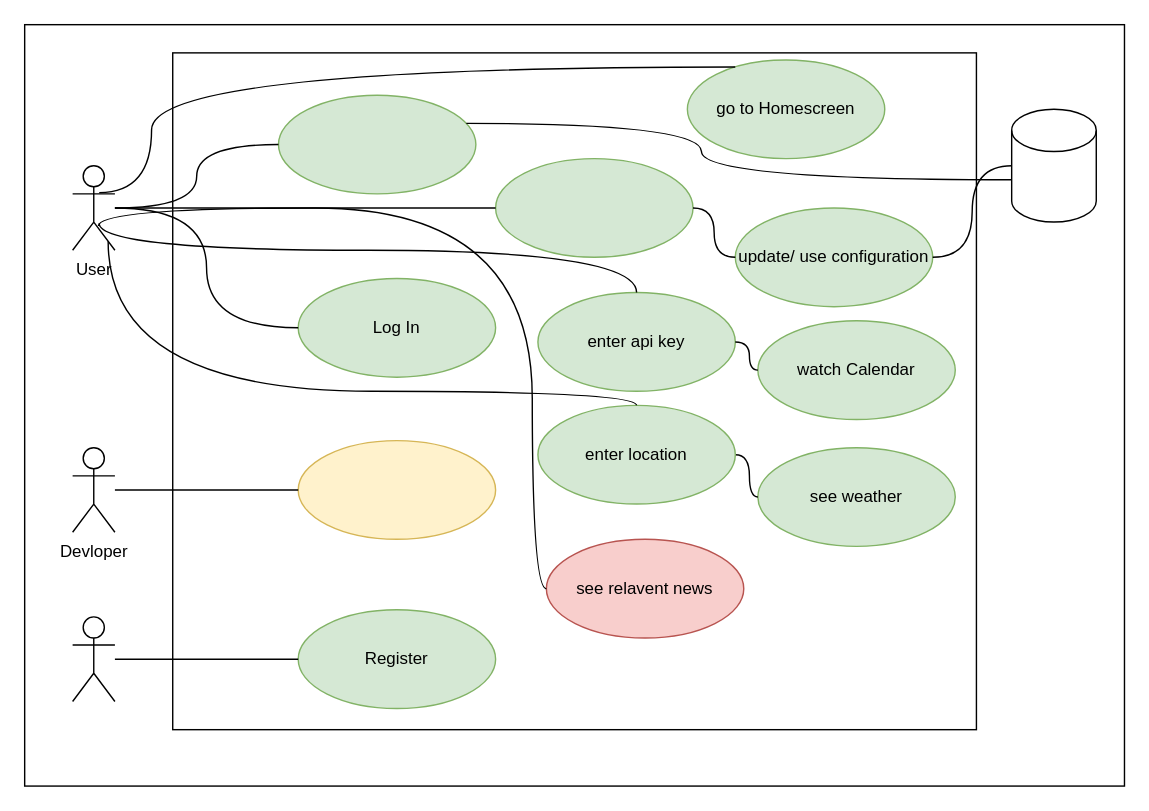
This 1149x811 diagram has some shape labels left out. The shapes that lost their labels are listed below. From the top down, each one's centre as x and y in pixels, then its label:
At point (376, 144): "Configure components".
At point (1053, 165): "DB".
At point (593, 207): "Use components".
At point (396, 489): "Create components".
At point (93, 658): "Guest".
